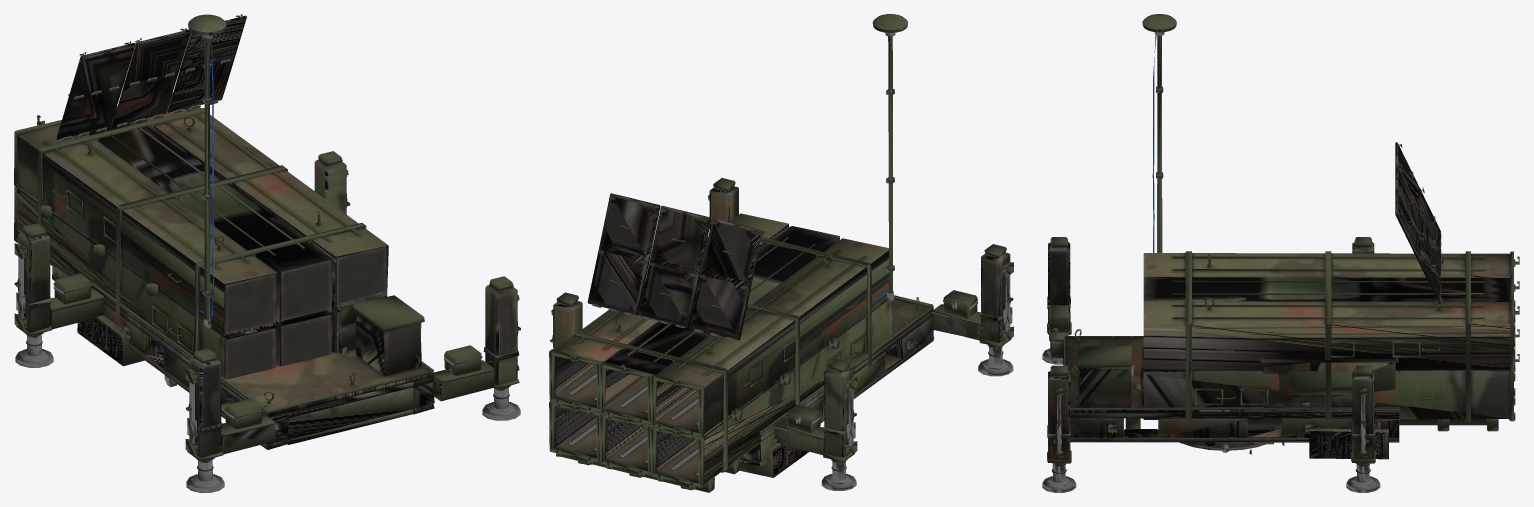
The model's file is nasams_lo.glb.
3 renders of one model, left to right at view 1: azimuth 30°, elevation 25°; view 2: azimuth 150°, elevation 25°; view 3: azimuth 270°, elevation 25°, orthographic. The views are drawn at different scales.
Parts seen in each view (by area): view 1: cradle|NSM_body, body|NSM_body, turret|NSM_body (×2), cradle|NSM_dark, cradle|NSM_body2, body|NSM_body2, body|NSM_steel, turret|NSM_body2, body|NSM_dark, turret|NSM_steel, turret|NSM_blue; view 2: cradle|NSM_body, cradle|NSM_body2, turret|NSM_dark, body|NSM_body, cradle|NSM_dark, turret|NSM_body (×2), body|NSM_body2, body|NSM_steel, turret|NSM_body2 (×2), cradle|NSM_steel, body|NSM_dark; view 3: cradle|NSM_body, body|NSM_body, cradle|NSM_body2, body|NSM_body2, turret|NSM_dark, turret|NSM_body (×2), body|NSM_steel, turret|NSM_body2, body|NSM_dark, cradle|NSM_dark.
Part boxes in pixels (left/top/right/bottom): cradle|NSM_body: left=17, top=96, right=388, bottom=390; body|NSM_body: left=18, top=160, right=517, bottom=457; turret|NSM_body (×2): left=56, top=14, right=246, bottom=139; cradle|NSM_dark: left=82, top=246, right=386, bottom=379; cradle|NSM_body2: left=14, top=93, right=366, bottom=396; body|NSM_body2: left=14, top=151, right=519, bottom=462; body|NSM_steel: left=15, top=257, right=520, bottom=492; turret|NSM_body2: left=204, top=39, right=210, bottom=319; body|NSM_dark: left=25, top=297, right=519, bottom=471; turret|NSM_steel: left=61, top=59, right=230, bottom=387; turret|NSM_blue: left=199, top=38, right=213, bottom=319; cradle|NSM_body: left=554, top=213, right=891, bottom=484; cradle|NSM_body2: left=549, top=231, right=871, bottom=492; turret|NSM_dark: left=594, top=197, right=754, bottom=335; body|NSM_body: left=553, top=186, right=1010, bottom=466; cradle|NSM_dark: left=553, top=356, right=805, bottom=483; turret|NSM_body (×2): left=587, top=14, right=908, bottom=340; body|NSM_body2: left=551, top=178, right=1013, bottom=462; body|NSM_steel: left=553, top=275, right=1013, bottom=490; turret|NSM_body2 (×2): left=597, top=36, right=892, bottom=308; cradle|NSM_steel: left=569, top=337, right=865, bottom=474; body|NSM_dark: left=821, top=312, right=1003, bottom=471; cradle|NSM_body: left=1143, top=253, right=1510, bottom=459; body|NSM_body: left=1048, top=241, right=1399, bottom=459; cradle|NSM_body2: left=1158, top=251, right=1519, bottom=444; body|NSM_body2: left=1047, top=237, right=1399, bottom=466; turret|NSM_dark: left=1179, top=152, right=1440, bottom=450; turret|NSM_body (×2): left=1142, top=14, right=1440, bottom=447; body|NSM_steel: left=1042, top=312, right=1400, bottom=492; turret|NSM_body2: left=1157, top=35, right=1162, bottom=252; body|NSM_dark: left=1047, top=296, right=1375, bottom=473; cradle|NSM_dark: left=1318, top=436, right=1380, bottom=455.
Size of the model in its own units: 4.16 by 4.99 by 5.81.
Materials: 21 (7 with a texture image).
